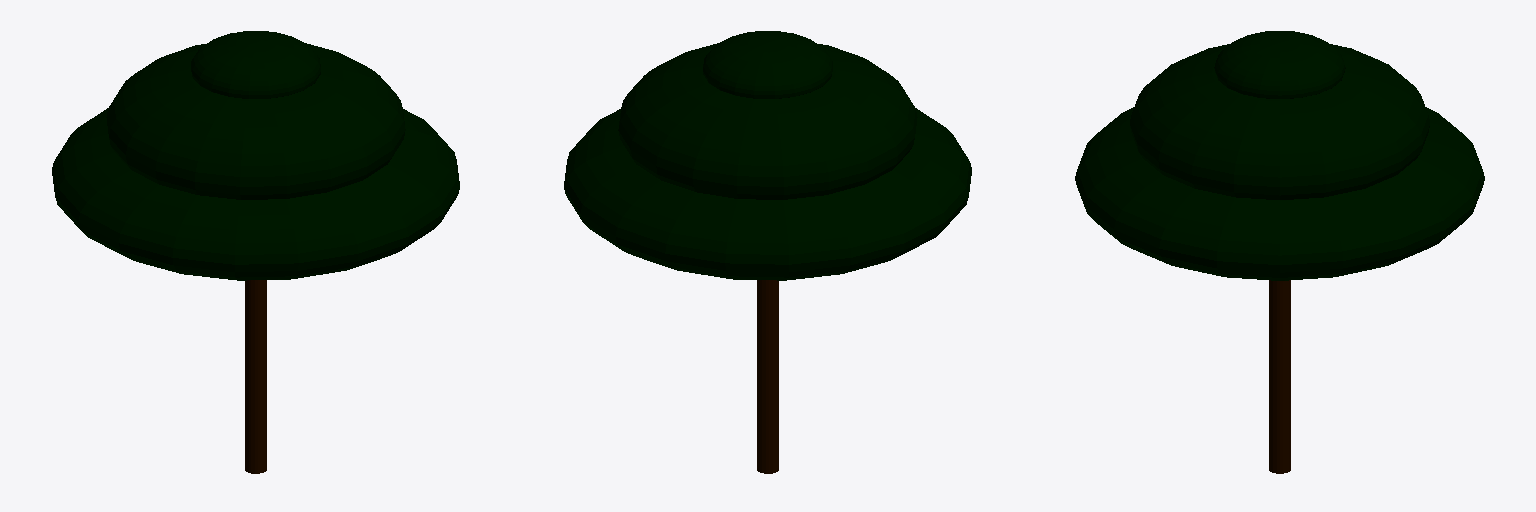
The model's file is Tree2.obj.
The picture shows the model from 3 angles: view 1: azimuth 30°, elevation 25°; view 2: azimuth 150°, elevation 25°; view 3: azimuth 270°, elevation 25°; orthographic projection.
Visible parts, largest first — view 1: pCylinder4; view 2: pCylinder4; view 3: pCylinder4.
Boxes of the visible parts, <box> form: pCylinder4: <box>52,31,459,473</box>; pCylinder4: <box>564,31,971,473</box>; pCylinder4: <box>1075,31,1484,473</box>.
Bounding box in the file's own units: 12.5 × 14.32 × 12.5.